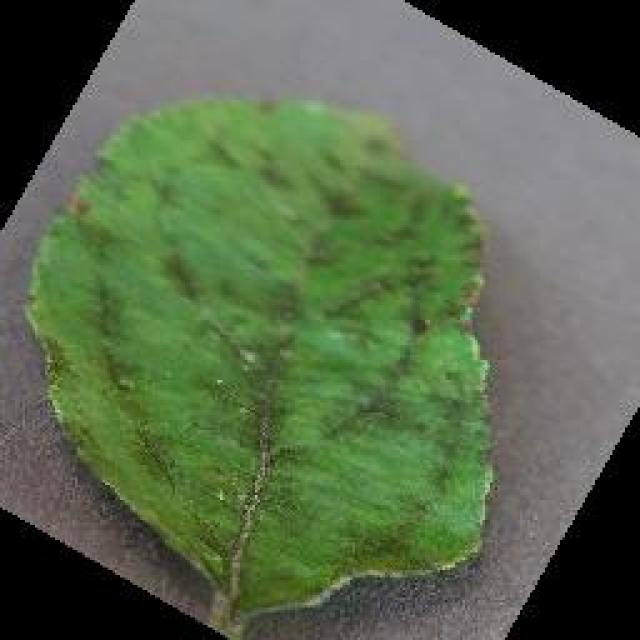apple scab disease: (20, 90, 498, 635)
